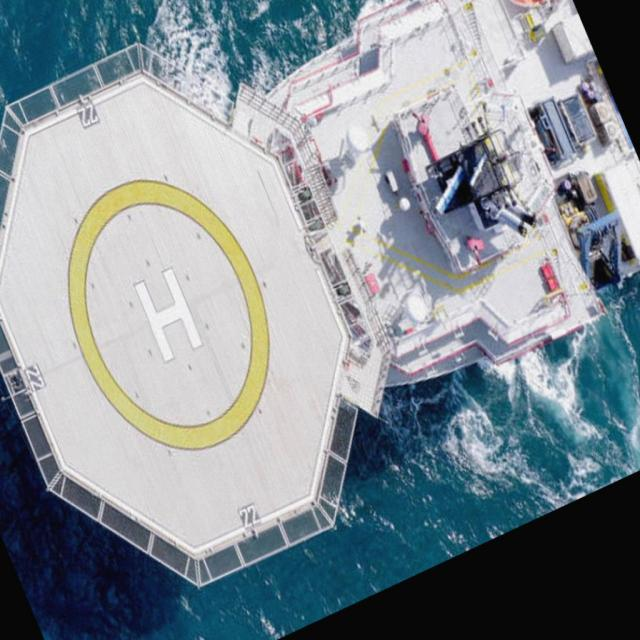helipad: (63, 174, 275, 453)
